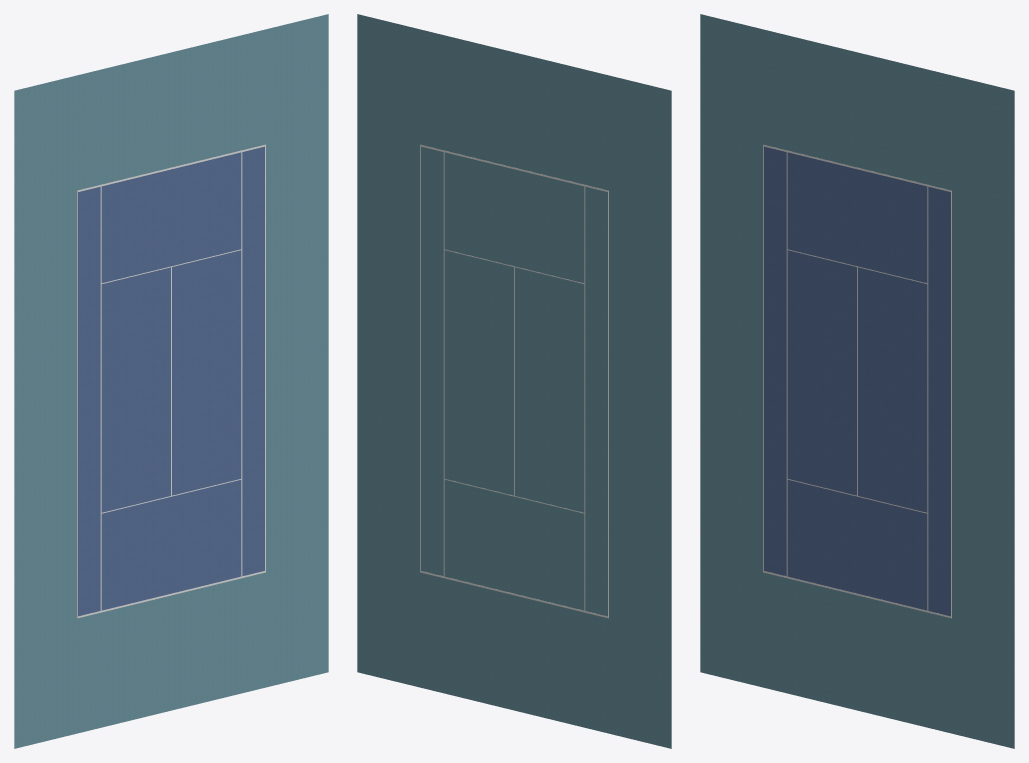
Rendered from grdFinal.glb.
The picture shows the model from 3 angles, left to right: view 1: azimuth 30°, elevation 25°; view 2: azimuth 150°, elevation 25°; view 3: azimuth 330°, elevation 25°; orthographic projection.
Visible parts, largest first — view 1: Mesh_0, Mesh_1, Mesh_9, Mesh_8; view 2: Mesh_0, Mesh_8, Mesh_9; view 3: Mesh_0, Mesh_1, Mesh_8, Mesh_9.
Part boxes in pixels (<box>): Mesh_0: <box>14,14,328,748</box>; Mesh_1: <box>78,146,264,616</box>; Mesh_9: <box>100,186,101,612</box>; Mesh_8: <box>241,152,242,577</box>; Mesh_0: <box>357,14,671,748</box>; Mesh_8: <box>443,150,444,576</box>; Mesh_9: <box>584,186,585,610</box>; Mesh_0: <box>700,14,1014,748</box>; Mesh_1: <box>764,146,950,616</box>; Mesh_8: <box>927,186,928,612</box>; Mesh_9: <box>786,152,787,576</box>.
Size of the model in its own units: 18.29 by 36.57 by 0.00638.
Materials: 4 (2 with a texture image).
